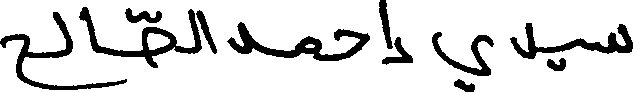أ: (376, 0, 415, 65)
ا: (194, 7, 217, 54), (80, 4, 96, 57)
ح: (0, 31, 29, 85), (331, 27, 366, 62)
د: (507, 20, 536, 58), (228, 20, 252, 55)
س: (598, 21, 631, 54)
ص: (139, 8, 176, 68)
ل: (49, 9, 73, 62), (186, 7, 196, 54)
م: (299, 33, 319, 61)
ي: (430, 30, 492, 90), (545, 36, 587, 74)
